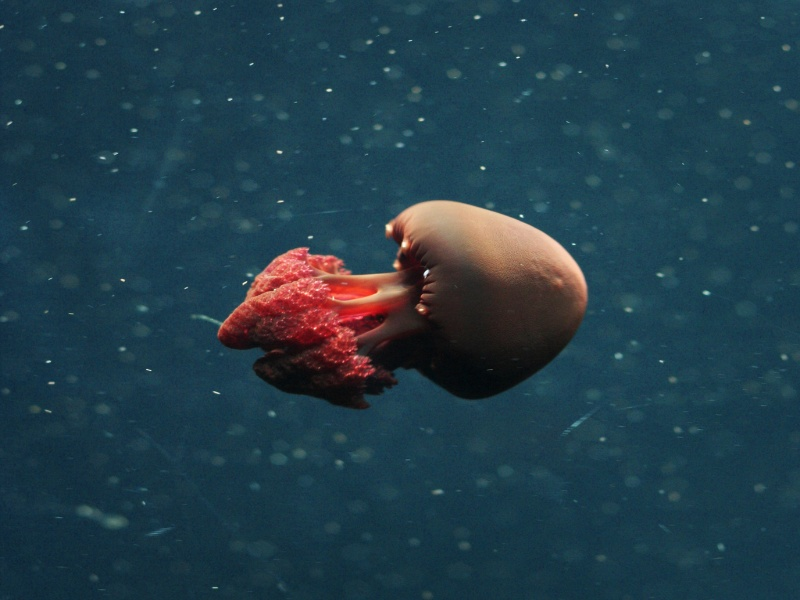Jellyfish: (218, 200, 587, 408)
